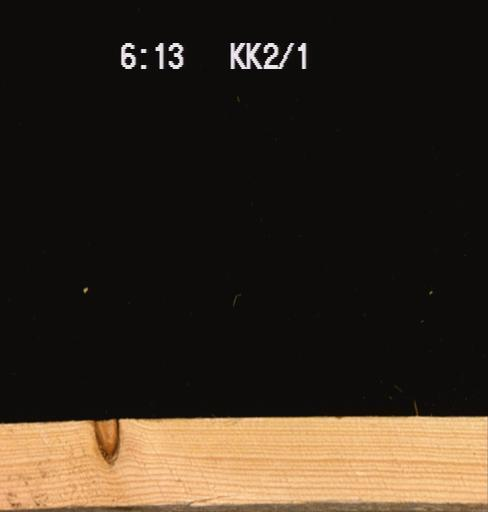edge_knot: (90, 417, 120, 466)
split: (182, 488, 231, 507)
